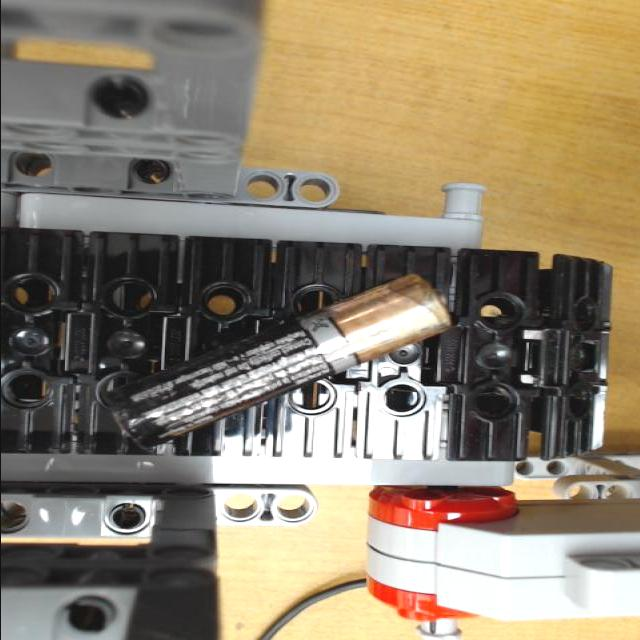AAA: (110, 268, 458, 450)
